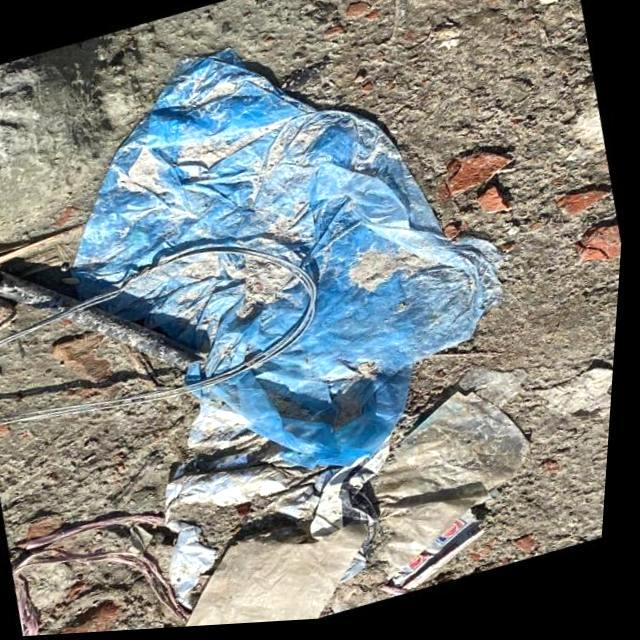polythene: (154, 77, 406, 422)
